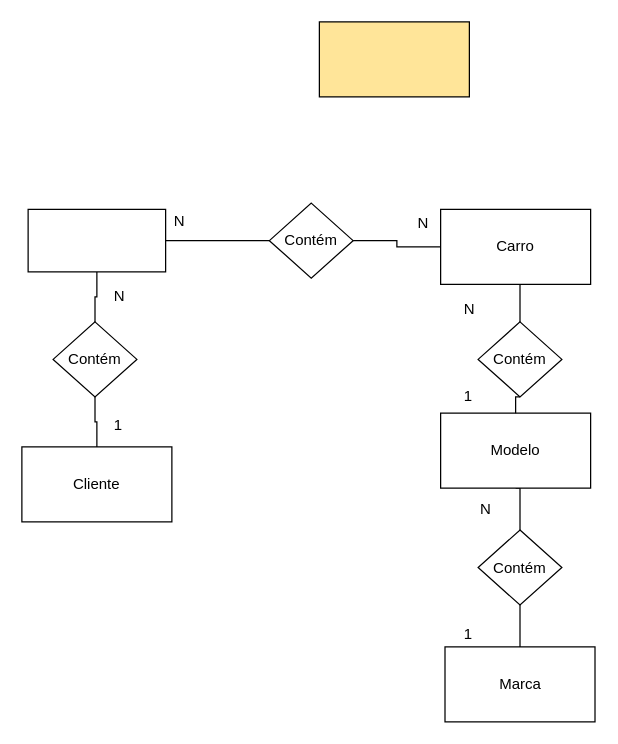
The diagram is 618 pixels wide and 744 high, and some of its shapes have lost their labels. The centre of each missing label's shape, as x and y in pixels:
Aluguel: (x=96, y=240)
CONCEITUAL: (x=393, y=59)
